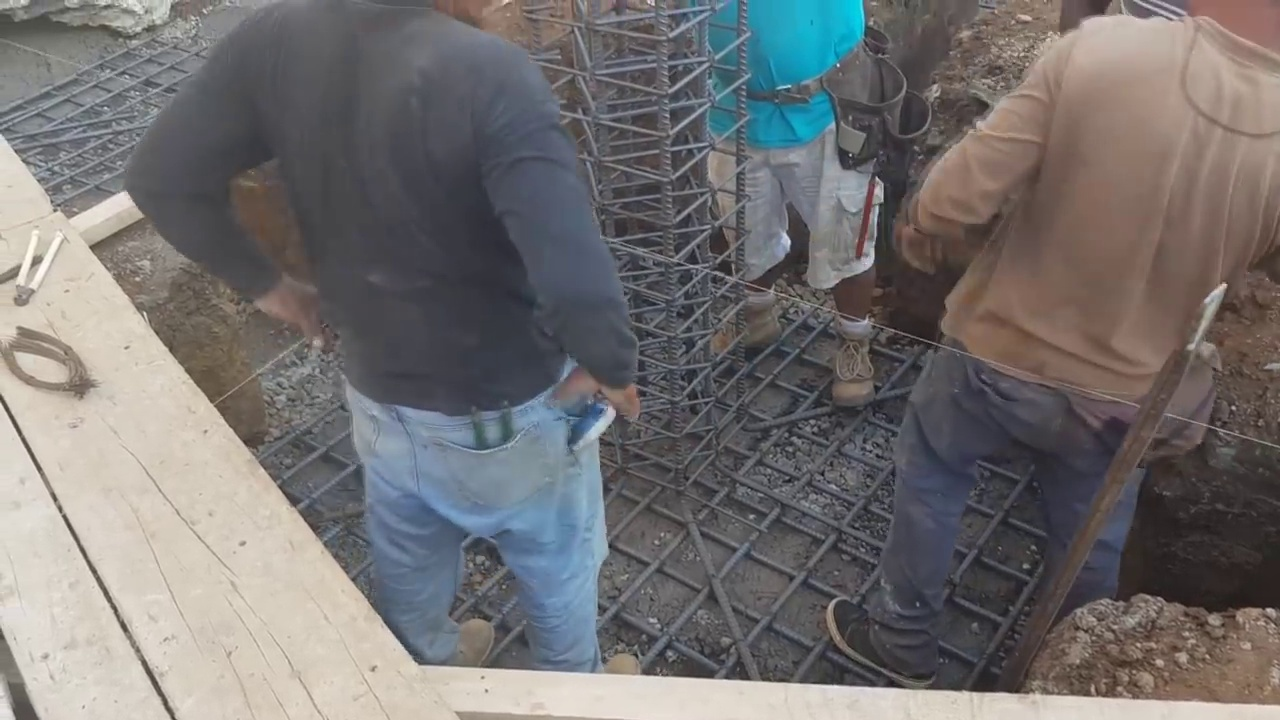person: (124, 0, 654, 674), (829, 0, 1280, 683), (695, 0, 885, 408)
